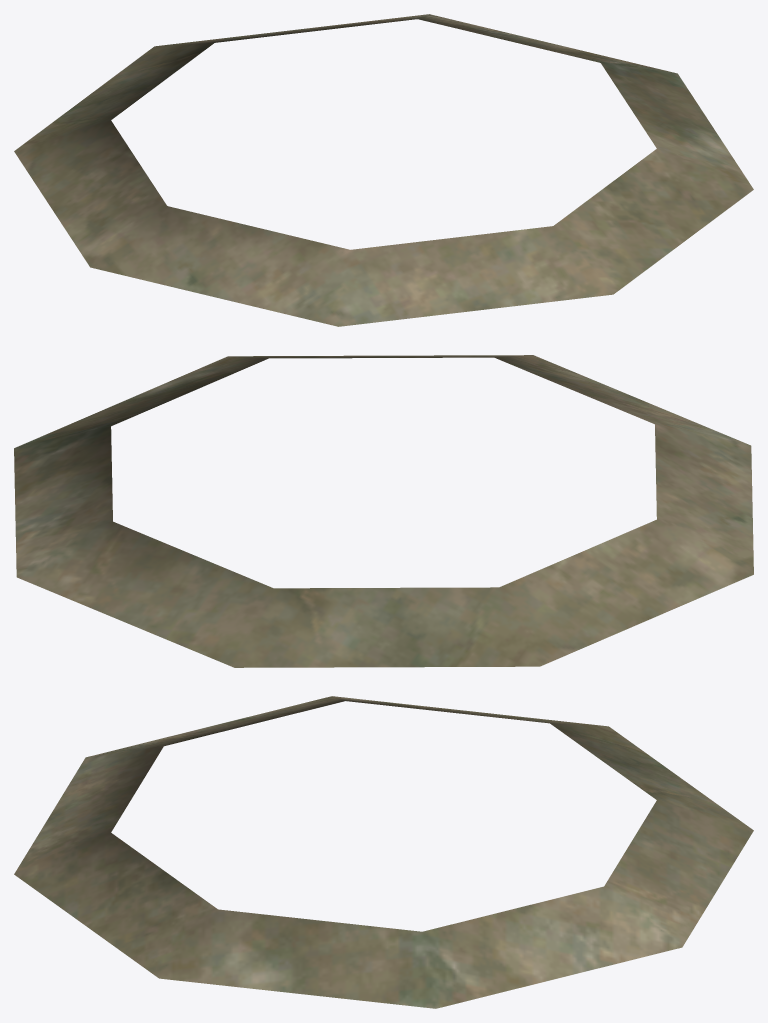
The model's file is EKH_JAIL_PS_JA_PILLER_BLENDER998383.fbx.
3 views of the same model, one above another, from view 1: azimuth 30°, elevation 25°; view 2: azimuth 150°, elevation 25°; view 3: azimuth 270°, elevation 25° (orthographic). The views are drawn at different scales.
Parts seen in each view (by area): view 1: EKH_JAIL_PS_JA_PILLER_BLENDER998383; view 2: EKH_JAIL_PS_JA_PILLER_BLENDER998383; view 3: EKH_JAIL_PS_JA_PILLER_BLENDER998383.
Boxes of the visible parts, <box> form: EKH_JAIL_PS_JA_PILLER_BLENDER998383: <box>14,14,753,326</box>; EKH_JAIL_PS_JA_PILLER_BLENDER998383: <box>14,355,753,667</box>; EKH_JAIL_PS_JA_PILLER_BLENDER998383: <box>14,696,753,1008</box>.
Size of the model in its own units: 17288 by 930 by 17288.
Materials: 1 (1 with a texture image).
